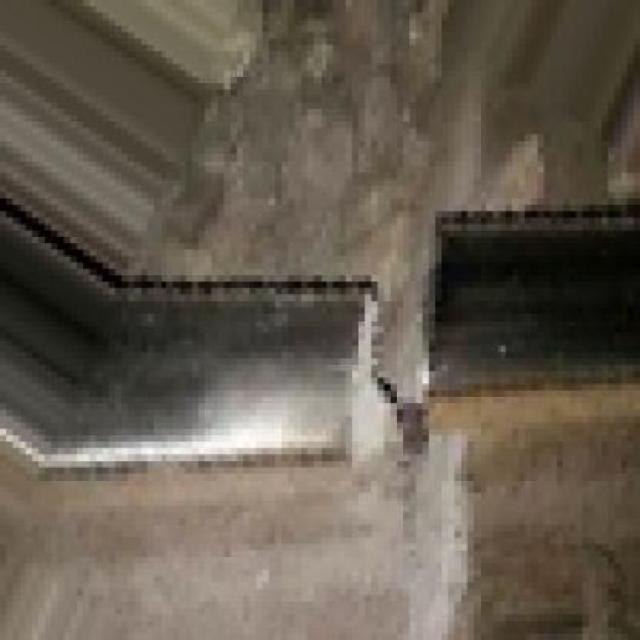defective: (239, 199, 604, 536)
